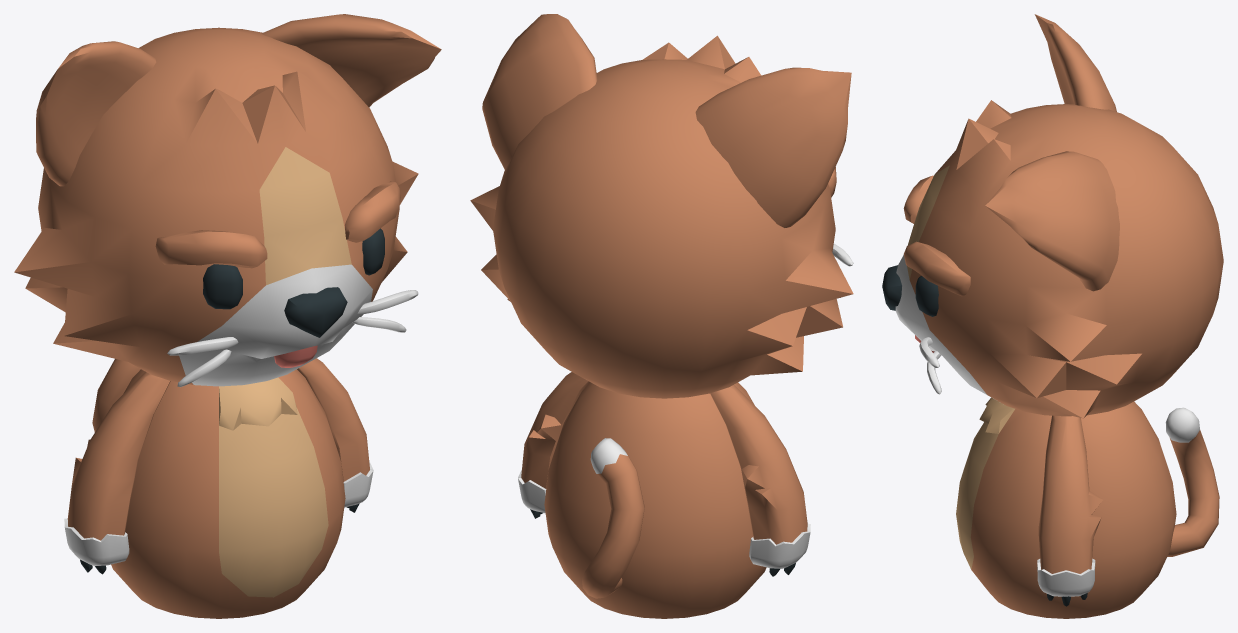
Rendered from character_cat.gltf.
3 renders of one model, left to right at view 1: azimuth 30°, elevation 25°; view 2: azimuth 150°, elevation 25°; view 3: azimuth 270°, elevation 25°, orthographic. The views are drawn at different scales.
Visible parts, largest first — view 1: character_cat_head, character_cat_body, character_cat_armRight, character_cat_armLeft; view 2: character_cat_head, character_cat_body, character_cat_armRight, character_cat_armLeft; view 3: character_cat_head, character_cat_body, character_cat_armLeft.
Boxes of the visible parts, bbox=[...] form: character_cat_head: bbox=[14, 14, 441, 387]; character_cat_body: bbox=[92, 359, 345, 618]; character_cat_armRight: bbox=[64, 371, 170, 574]; character_cat_armLeft: bbox=[297, 358, 373, 512]; character_cat_head: bbox=[470, 14, 853, 398]; character_cat_body: bbox=[544, 382, 766, 618]; character_cat_armRight: bbox=[710, 385, 810, 576]; character_cat_armLeft: bbox=[518, 372, 590, 518]; character_cat_head: bbox=[882, 14, 1223, 418]; character_cat_body: bbox=[956, 397, 1219, 618]; character_cat_armLeft: bbox=[1037, 415, 1103, 606].
Size of the model in its own units: 1.29 by 1.75 by 1.08.
